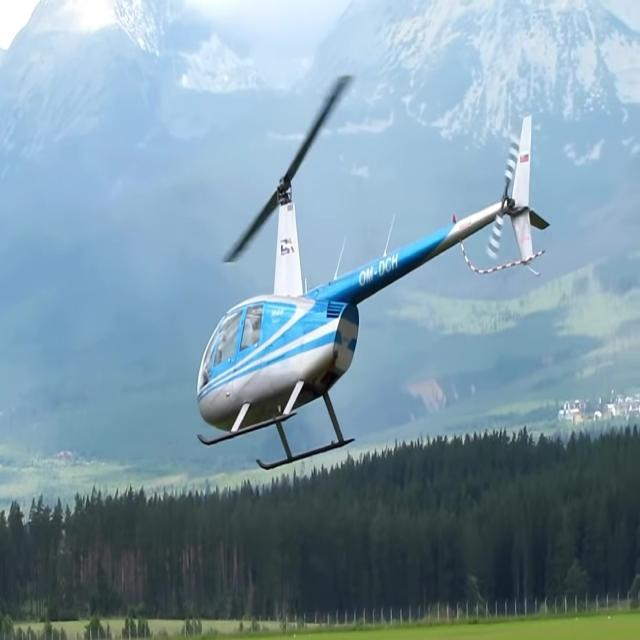CIV_HELO: (196, 113, 551, 471)
